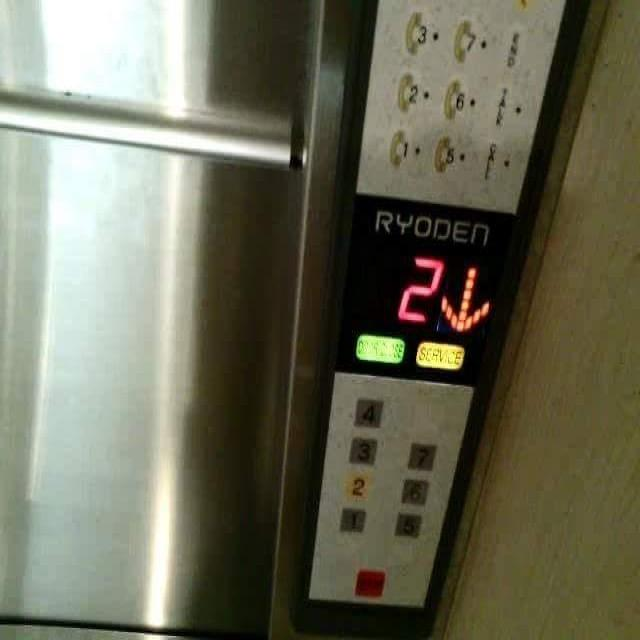1: (336, 504, 366, 532)
2: (344, 469, 372, 500)
3: (347, 436, 378, 465)
4: (352, 393, 383, 428)
5: (393, 512, 422, 539)
6: (398, 473, 428, 507)
7: (404, 438, 436, 471)
blur: (351, 566, 385, 598)
led: (331, 186, 517, 390)
